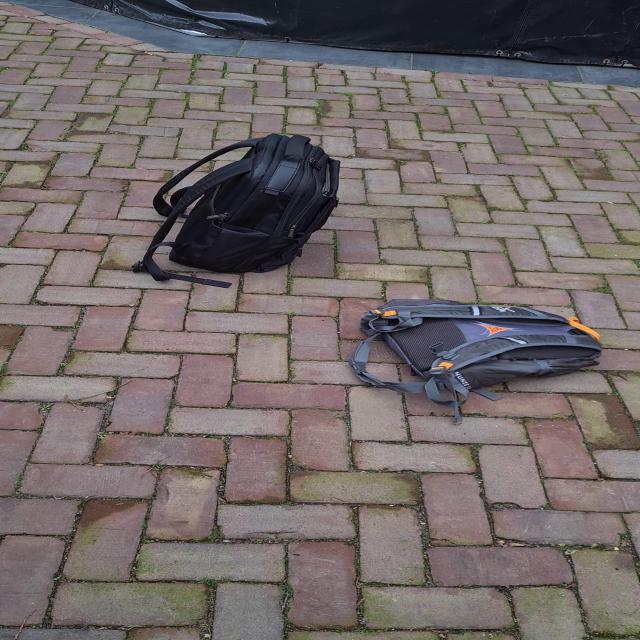backpack: (139, 131, 347, 289), (342, 298, 611, 402)
